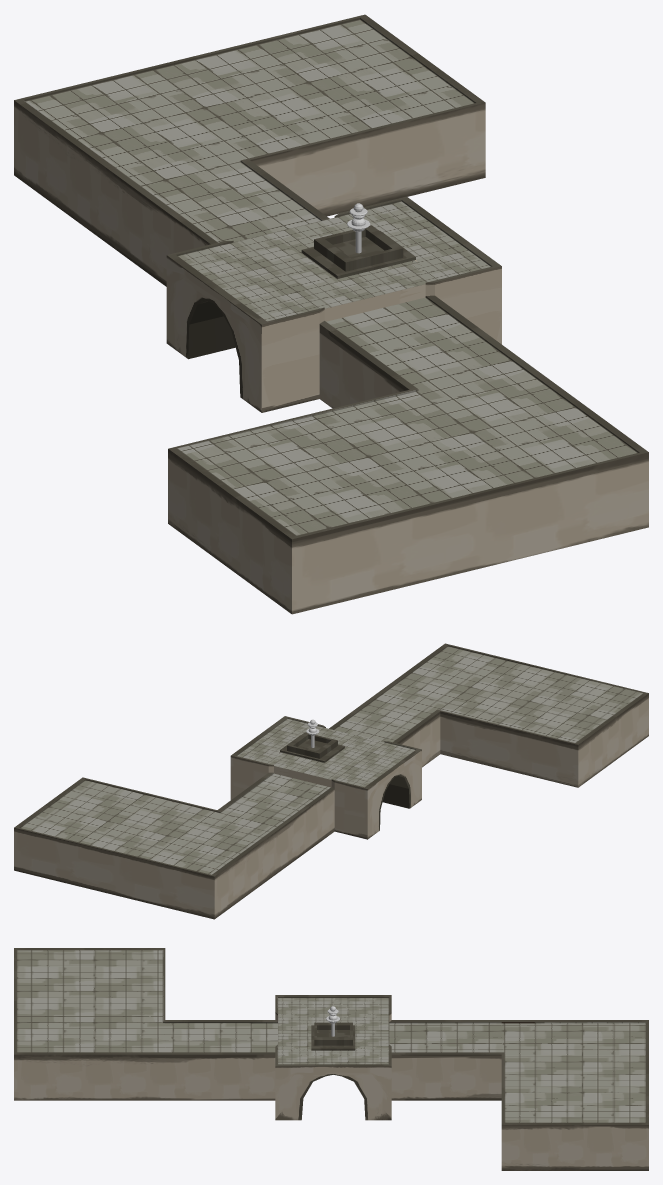
The model's file is MiddleCube.FBX.
The picture shows the model from 3 angles, top to bottom: view 1: azimuth 30°, elevation 25°; view 2: azimuth 150°, elevation 25°; view 3: azimuth 270°, elevation 25°; orthographic projection. The views are drawn at different scales.
Visible parts, largest first — view 1: Box001; view 2: Box001; view 3: Box001.
Boxes of the visible parts, bbox=[...] form: Box001: bbox=[14, 14, 648, 614]; Box001: bbox=[14, 643, 648, 919]; Box001: bbox=[14, 948, 648, 1170].
Bounding box in the file's own units: 418 × 93.81 × 634.
